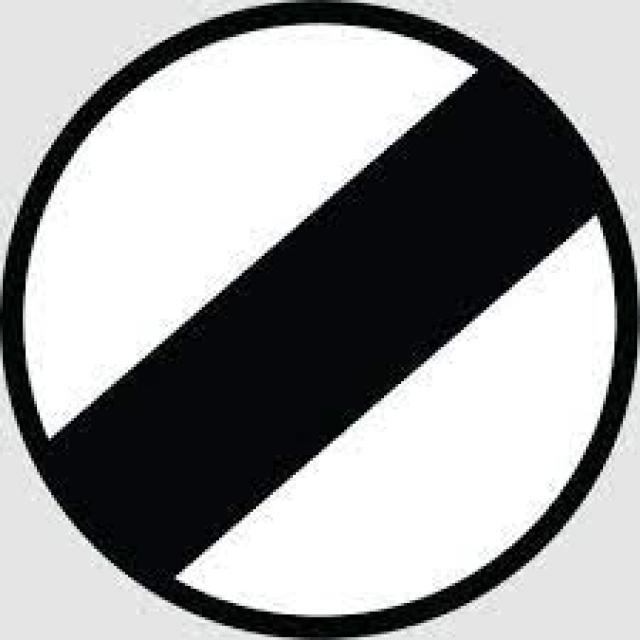restriction ends: (18, 21, 618, 624)
